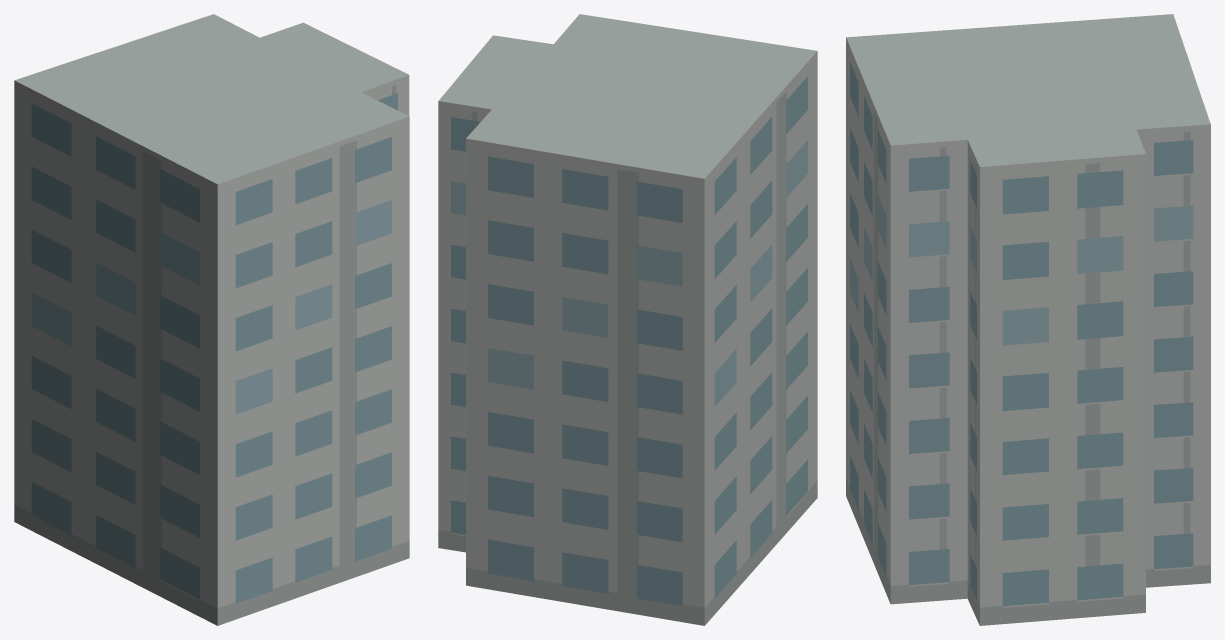
File: survey-upis-32767807.glb
3 views of the same model, side by side, from view 1: azimuth 30°, elevation 25°; view 2: azimuth 150°, elevation 25°; view 3: azimuth 270°, elevation 25° (orthographic). The views are drawn at different scales.
Visible parts, largest first — view 1: survey-upis-32767807.tmp; view 2: survey-upis-32767807.tmp; view 3: survey-upis-32767807.tmp.
Part boxes in pixels (x1=…): survey-upis-32767807.tmp: x1=14, y1=14, x2=409, y2=625; survey-upis-32767807.tmp: x1=438, y1=14, x2=817, y2=625; survey-upis-32767807.tmp: x1=846, y1=14, x2=1210, y2=625.
Bounding box in the file's own units: 14.61 × 20.4 × 14.71.
